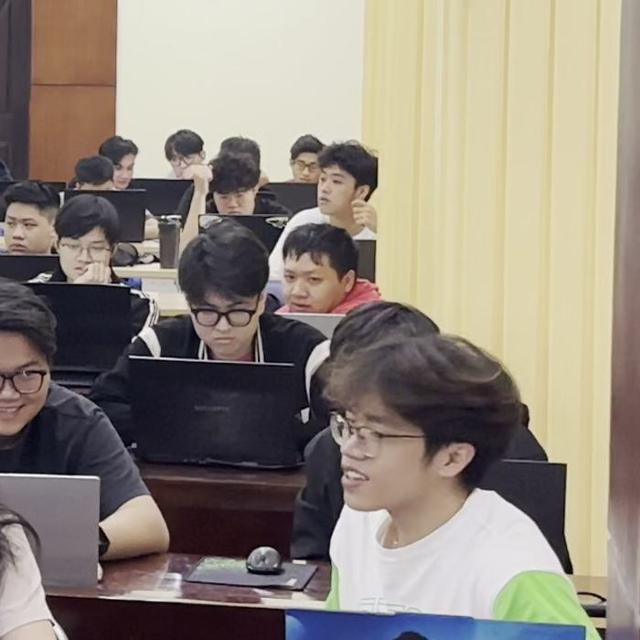Looking away: (309, 317, 522, 528), (183, 226, 268, 342), (0, 288, 54, 440), (300, 139, 379, 232), (65, 205, 145, 290), (0, 173, 65, 264), (204, 161, 271, 221)
Looking forward: (281, 219, 367, 315)
